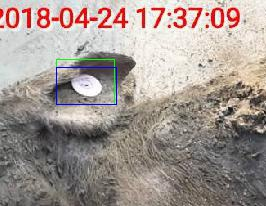text: (56, 59, 114, 104)
